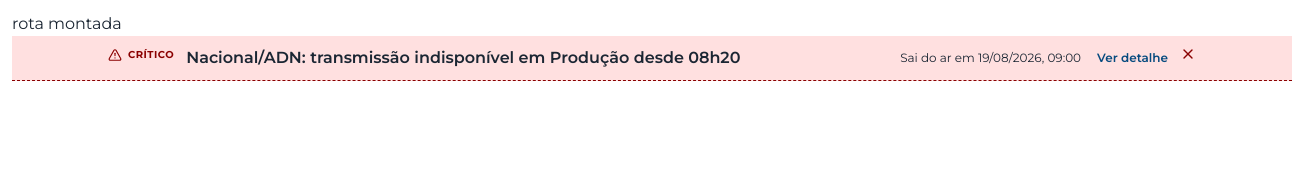
Test: FaixaComunicadoCritico › fecha ao dispensar e não reabre na mesma sessão
The image size is (1292, 172).
Check: the message is shown, box left=12, top=36, right=1291, bottom=81
Click the button named "Dispensar este comunicado nesta sessão".
click(1188, 54)  # box left=1172, top=38, right=1204, bottom=70
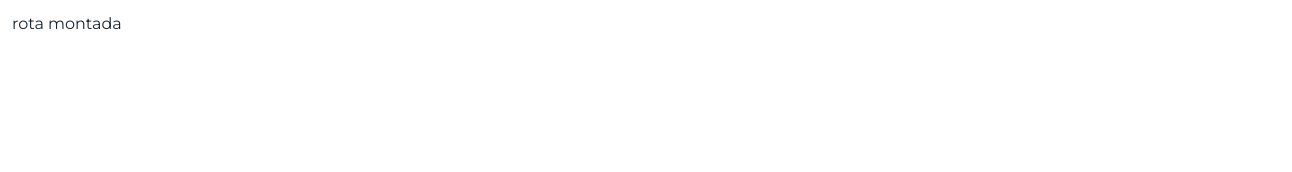
Check: the message is gone
